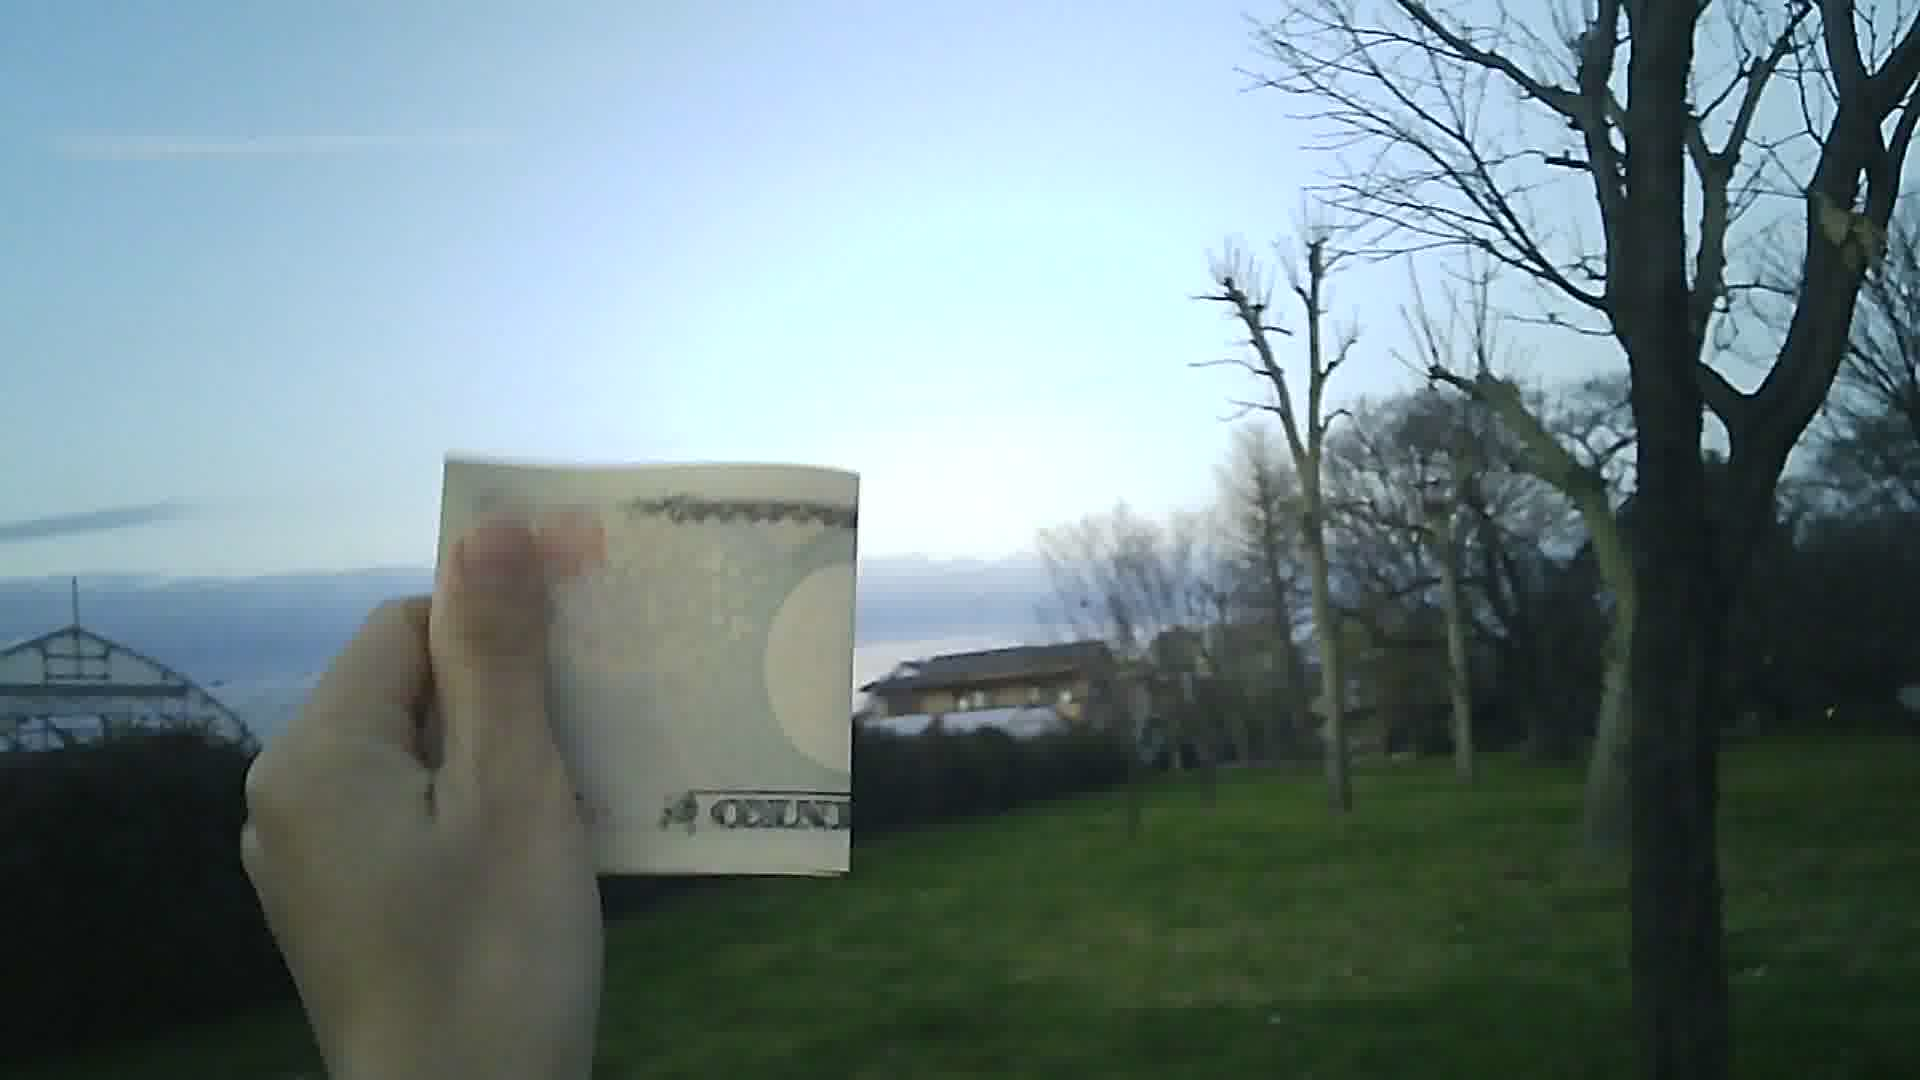10,000 Yen: (400, 436, 878, 894)
